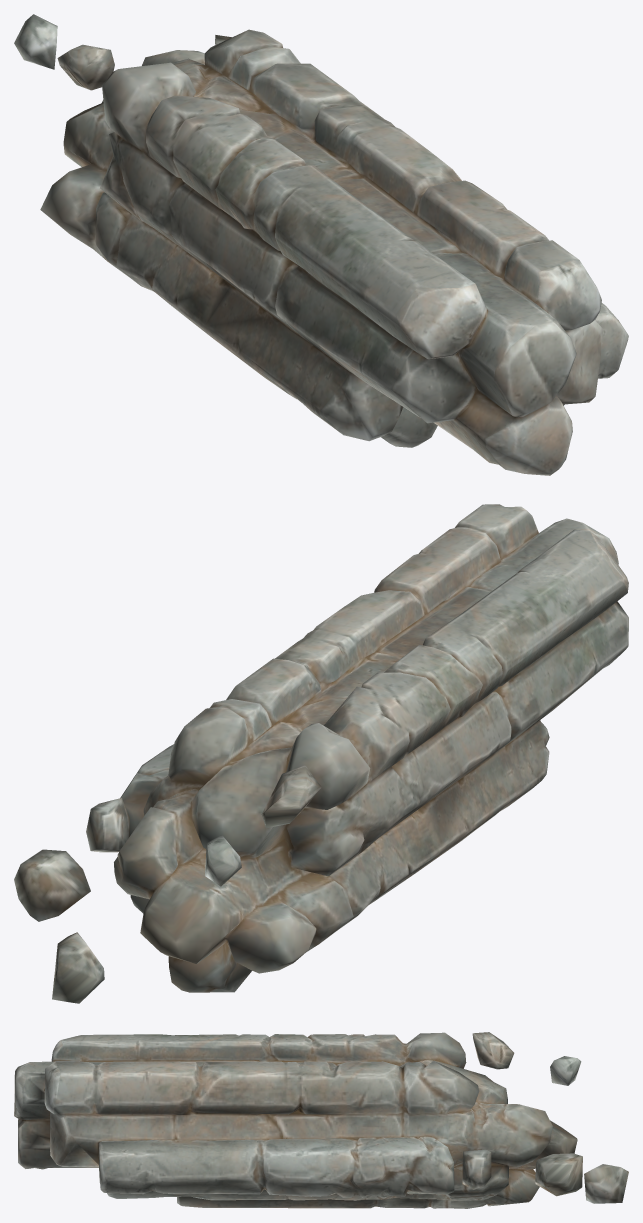
The model's file is VD_Basalt_Group_A.fbx.
3 renders of one model, top to bottom at view 1: azimuth 30°, elevation 25°; view 2: azimuth 150°, elevation 25°; view 3: azimuth 270°, elevation 25°, orthographic. The views are drawn at different scales.
Parts seen in each view (by area): view 1: VD_Basalt_Group_A; view 2: VD_Basalt_Group_A; view 3: VD_Basalt_Group_A.
Boxes of the visible parts, x1=… form: VD_Basalt_Group_A: x1=14, y1=14, x2=628, y2=475; VD_Basalt_Group_A: x1=14, y1=504, x2=628, y2=1003; VD_Basalt_Group_A: x1=14, y1=1032, x2=628, y2=1208.
Size of the model in its own units: 337 by 298 by 1077.
